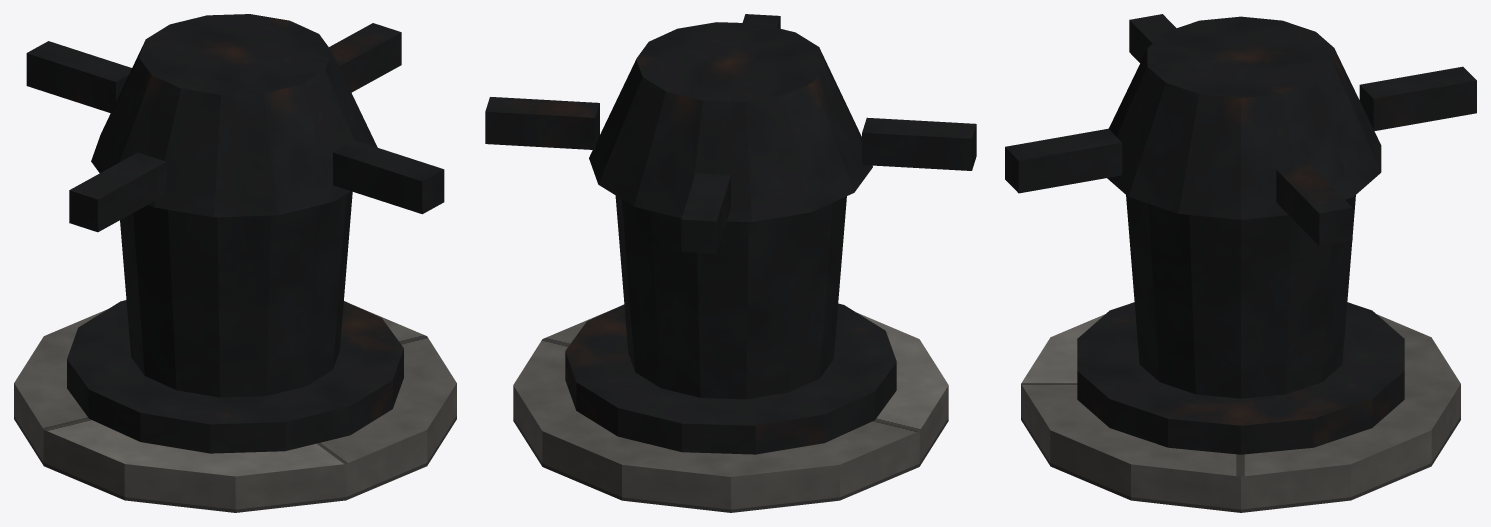
Rendered from A_capstan.glb.
3 views of the same model, side by side, from view 1: azimuth 30°, elevation 25°; view 2: azimuth 150°, elevation 25°; view 3: azimuth 270°, elevation 25° (orthographic).
Visible parts, largest first — view 1: A_capstan; view 2: A_capstan; view 3: A_capstan.
Boxes of the visible parts, x1,y1,x2,y2 form: A_capstan: (14, 14, 456, 512); A_capstan: (485, 14, 976, 512); A_capstan: (1005, 14, 1476, 512).
Size of the model in its own units: 1.18 by 1 by 1.18.
Materials: 2 (2 with a texture image).
